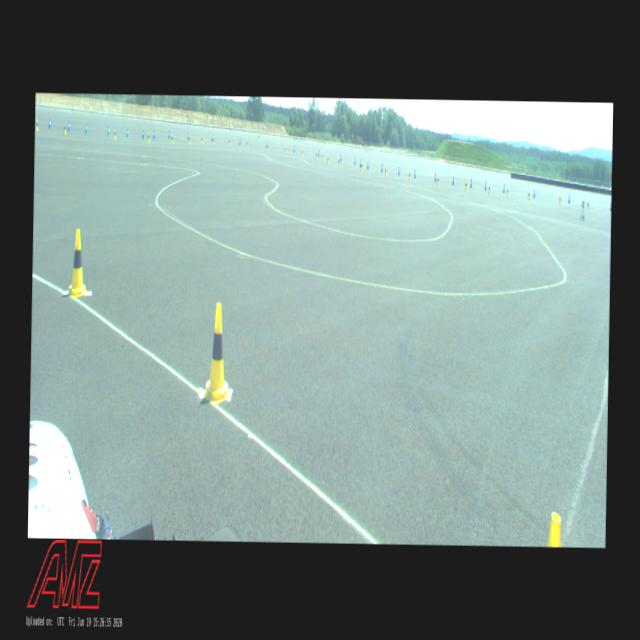blue_cone: (469, 178, 472, 188), (68, 120, 70, 130), (85, 123, 87, 133), (108, 126, 110, 136), (142, 129, 144, 138), (484, 181, 486, 190), (533, 188, 535, 197), (568, 194, 570, 203), (609, 202, 611, 211), (126, 128, 128, 136), (153, 130, 155, 138), (168, 130, 170, 138), (452, 176, 454, 184), (502, 184, 504, 192), (49, 118, 50, 128)
yellow_cone: (202, 303, 232, 403), (68, 229, 88, 297), (526, 190, 530, 200), (170, 134, 173, 144), (36, 119, 38, 130), (436, 174, 438, 185), (64, 124, 66, 134), (147, 132, 149, 142), (188, 134, 190, 144), (408, 170, 410, 180), (465, 180, 467, 190), (488, 184, 490, 194), (360, 161, 362, 170), (384, 166, 386, 175), (586, 200, 588, 209), (506, 187, 508, 196), (558, 194, 560, 203), (327, 155, 329, 163), (338, 158, 340, 166), (321, 153, 323, 160), (114, 129, 115, 139)
